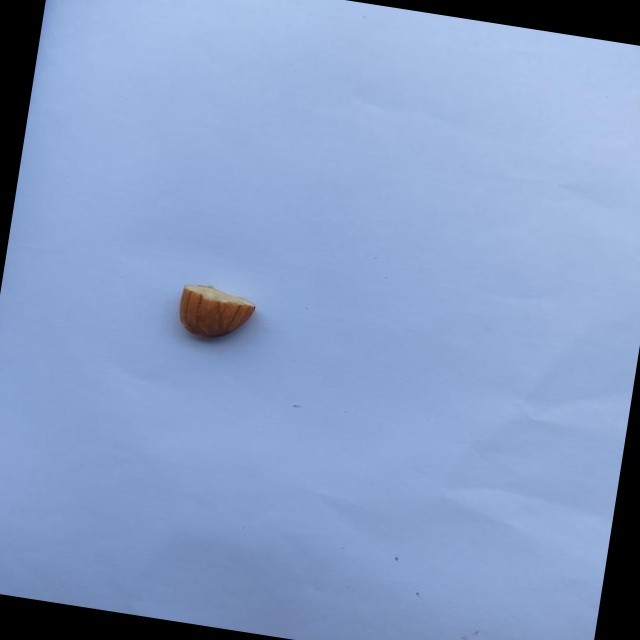grade4: (167, 277, 267, 353)
